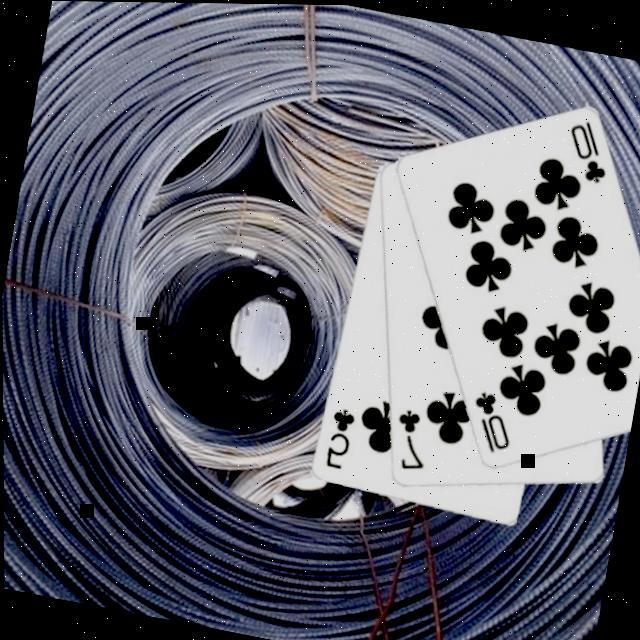10C: (556, 114, 616, 188), (459, 386, 518, 460)
5C: (318, 404, 357, 474)
7C: (383, 404, 433, 477)
